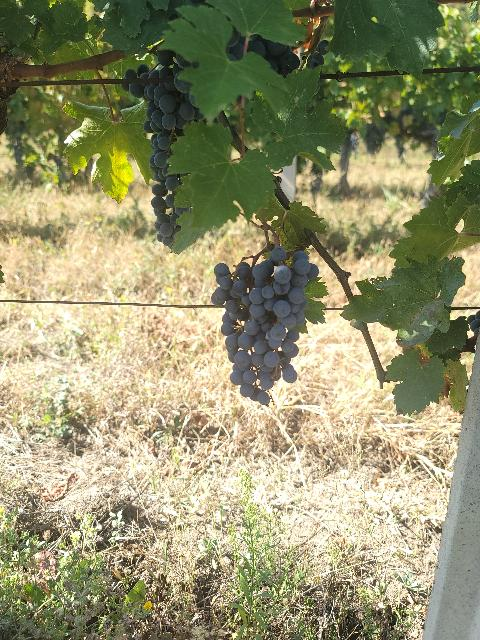grapes: (211, 245, 319, 405), (122, 50, 204, 246)
